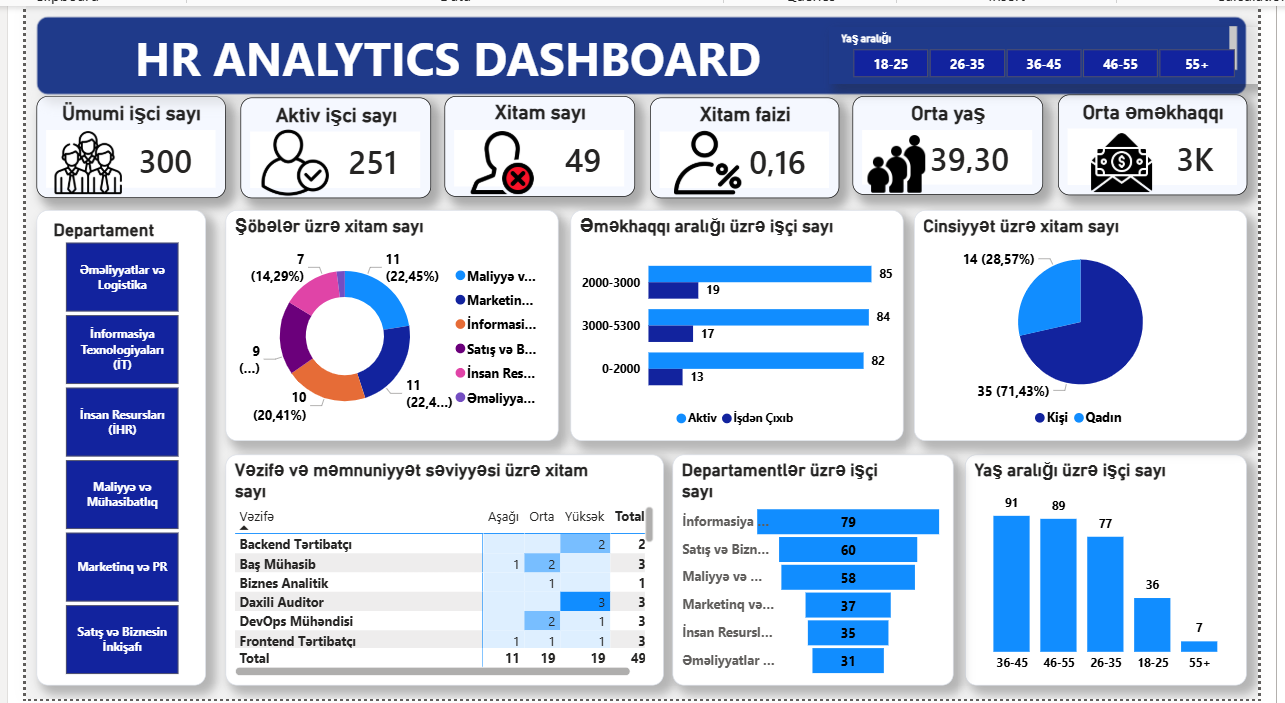

What the dashboard file says about the page in this screenshot:
{"tool":"powerbi","page":{"name":"HR İcmalı","canvas":[1280,720],"ordinal":0},"visuals":[{"type":"cardVisual","title":"Ümumi işci sayı","fields":{"Data":["Count(HR_İşçi_Məlumatları.İşçi ID)"]},"box":[10.9,93.5,196.4,106],"z":0},{"type":"textbox","box":[10.9,10.9,1257.7,81],"z":1000},{"type":"cardVisual","title":"Aktiv işci sayı","fields":{"Data":["_Measures.Aktiv İşçi Sayı"]},"box":[222.2,95.1,197.9,104.4],"z":2000},{"type":"cardVisual","title":"Xitam sayı","fields":{"Data":["_Measures.İşdən Çıxanlar"]},"box":[435.1,93.5,197.9,104.4],"z":3000},{"type":"cardVisual","title":"Xitam faizi","fields":{"Data":["_Measures.İşdən Çıxma Faizi %"]},"box":[648,95.1,196.4,104.4],"z":4000},{"type":"cardVisual","title":"Orta yaş","fields":{"Data":["Avg(HR_İşçi_Məlumatları.Yaş)"]},"box":[859.3,93.5,197.9,102.9],"z":5000},{"type":"cardVisual","title":"Orta əməkhaqqı","fields":{"Data":["_Measures.Orta Əməkhaqqı"]},"box":[1072.2,91.9,196.4,104.4],"z":6000},{"type":"image","box":[29.9,127.8,69.7,69.7],"z":7000},{"type":"image","box":[244.6,127.8,69.7,69.7],"z":8000},{"type":"image","box":[459.3,127.8,69.7,69.7],"z":9000},{"type":"image","box":[674,127.8,69.7,69.7],"z":10000},{"type":"image","box":[874.4,129.5,59.8,69.7],"z":11000},{"type":"image","box":[1103.4,127.8,69.7,69.7],"z":12000},{"type":"donutChart","title":"Şöbələr üzrə xitam sayı","fields":{"Category":["HR_İşçi_Məlumatları.Departament"],"Y":["_Measures.İşdən Çıxanlar"]},"box":[207.3,211.9,346,240],"z":13000},{"type":"clusteredBarChart","title":"Əməkhaqqı aralığı üzrə işçi sayı","fields":{"Category":["HR_İşçi_Məlumatları.Maaş Aralığı"],"Series":["HR_İşçi_Məlumatları.Status"],"Y":["CountNonNull(HR_İşçi_Məlumatları.İşçi ID)"]},"box":[564.9,211.9,346,240],"z":14000},{"type":"pivotTable","title":"Vəzifə və məmnuniyyət səviyyəsi üzrə xitam sayı","fields":{"Columns":["HR_İşçi_Məlumatları.Məmnuniyyət Səviyyəsi"],"Rows":["HR_İşçi_Məlumatları.Vəzifə"],"Values":["_Measures.İşdən Çıxanlar"]},"box":[207.3,466,455.1,240],"z":15000},{"type":"columnChart","title":"Yaş aralığı üzrə işçi sayı","fields":{"Category":["HR_İşçi_Məlumatları.Yaş aralığı"],"Y":["CountNonNull(HR_İşçi_Məlumatları.İşçi ID)"]},"box":[975.6,466,293,240],"z":16000},{"type":"pieChart","title":"Cinsiyyət üzrə xitam sayı","fields":{"Category":["HR_İşçi_Məlumatları.Cinsiyyət"],"Y":["_Measures.İşdən Çıxanlar"]},"box":[922.6,211.9,346,240],"z":17000},{"type":"funnel","title":"Departamentlər üzrə işçi sayı","fields":{"Category":["HR_İşçi_Məlumatları.Departament"],"Y":["CountNonNull(HR_İşçi_Məlumatları.İşçi ID)"]},"box":[672.5,466,292,240],"z":18000},{"type":"slicer","fields":{"Values":["HR_İşçi_Məlumatları.Departament"]},"box":[10.9,211.9,176.1,494],"z":19000},{"type":"slicer","fields":{"Values":["HR_İşçi_Məlumatları.Yaş aralığı"]},"box":[833.8,21.8,445.7,59.2],"z":20000}]}

Visuals, with their boxes in screenshot pixels (x1, y1, x2, y2), scaled from the page's 1280x720 canvas onto the 1285x703 screenshot:
"Ümumi işci sayı" cardVisual: bbox=[11, 91, 208, 195]
textbox: bbox=[11, 11, 1274, 90]
"Aktiv işci sayı" cardVisual: bbox=[223, 93, 422, 195]
"Xitam sayı" cardVisual: bbox=[437, 91, 635, 193]
"Xitam faizi" cardVisual: bbox=[651, 93, 848, 195]
"Orta yaş" cardVisual: bbox=[863, 91, 1061, 192]
"Orta əməkhaqqı" cardVisual: bbox=[1076, 90, 1274, 192]
image: bbox=[30, 125, 100, 193]
image: bbox=[246, 125, 316, 193]
image: bbox=[461, 125, 531, 193]
image: bbox=[677, 125, 747, 193]
image: bbox=[878, 126, 938, 194]
image: bbox=[1108, 125, 1178, 193]
"Şöbələr üzrə xitam sayı" donutChart: bbox=[208, 207, 555, 441]
"Əməkhaqqı aralığı üzrə işçi sayı" clusteredBarChart: bbox=[567, 207, 914, 441]
"Vəzifə və məmnuniyyət səviyyəsi üzrə xitam sayı" pivotTable: bbox=[208, 455, 665, 689]
"Yaş aralığı üzrə işçi sayı" columnChart: bbox=[979, 455, 1274, 689]
"Cinsiyyət üzrə xitam sayı" pieChart: bbox=[926, 207, 1274, 441]
"Departamentlər üzrə işçi sayı" funnel: bbox=[675, 455, 968, 689]
slicer - HR_İşçi_Məlumatları.Departament: bbox=[11, 207, 188, 689]
slicer - HR_İşçi_Məlumatları.Yaş aralığı: bbox=[837, 21, 1284, 79]
